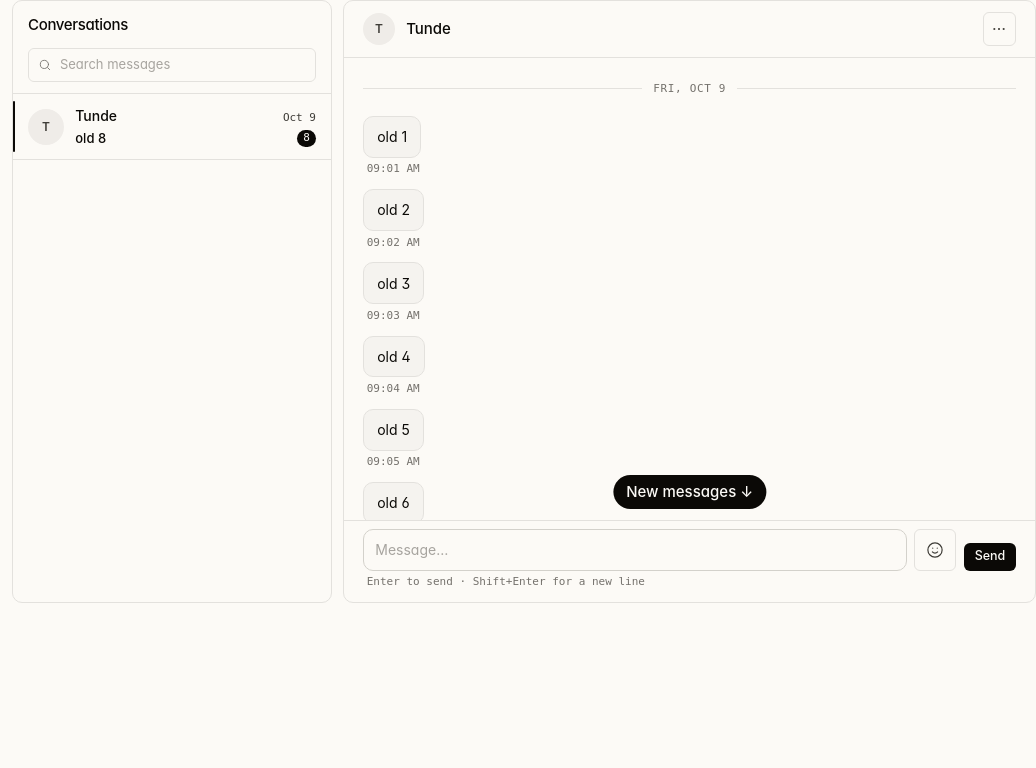
it: MessagingCenter: sync, scroll and read marks (CONTRACT §6.3, §6.4, §7) › merges new messages from the poll and doesn't yank a reader who scrolled up (web B1)
(page scrolled)
Click the button with aria-label "New messages. Jump to the latest" at {"x": 690, "y": 492}, box [613,475,766,509]
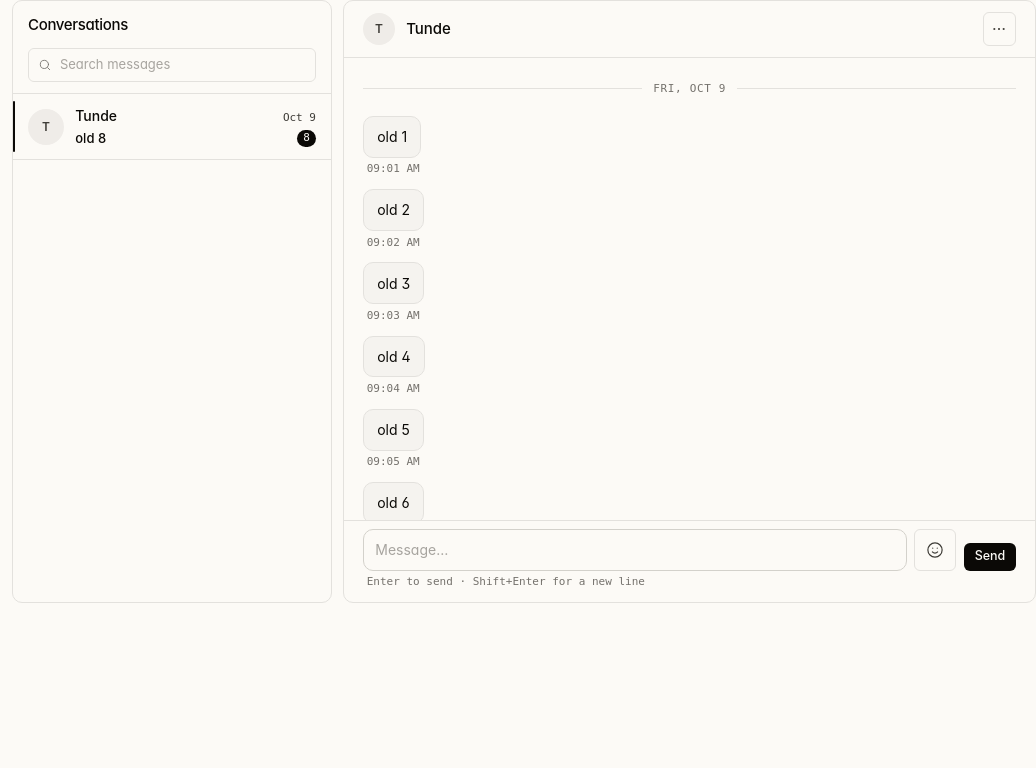
Expected: the button "New messages" is gone
